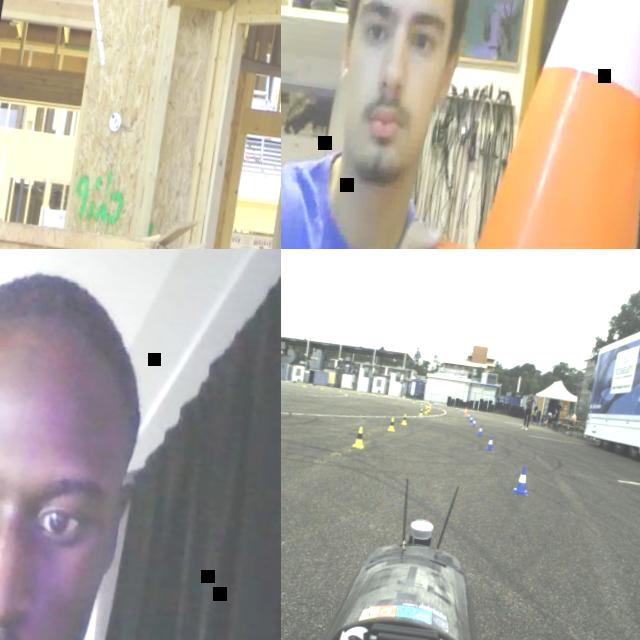NO-Hardhat: (0, 259, 161, 425), (530, 390, 534, 394), (573, 410, 576, 413), (559, 401, 561, 404), (550, 410, 552, 413), (546, 413, 548, 416)
NO-Mask: (339, 93, 434, 185)
NO-Safety Vest: (281, 160, 450, 249), (526, 396, 533, 408), (557, 405, 561, 414), (555, 413, 560, 420), (573, 416, 578, 422)
Person: (0, 249, 281, 640), (281, 0, 640, 249), (522, 389, 536, 432), (546, 408, 560, 429), (566, 410, 578, 434), (556, 401, 563, 414), (543, 412, 550, 424), (532, 409, 536, 424), (548, 410, 553, 418)
Safety Cone: (420, 0, 640, 249), (513, 465, 533, 496), (352, 426, 368, 448), (486, 435, 497, 451), (388, 417, 397, 432), (401, 413, 409, 426), (478, 425, 485, 436), (464, 407, 469, 416), (473, 418, 478, 426), (419, 408, 424, 416), (470, 415, 474, 423), (430, 402, 433, 412), (467, 412, 471, 419), (425, 407, 429, 414), (428, 406, 431, 412), (304, 382, 307, 388), (413, 399, 416, 404), (399, 396, 402, 401), (377, 393, 380, 398), (359, 390, 362, 395), (310, 383, 313, 388), (464, 409, 466, 415), (461, 408, 464, 412), (455, 407, 458, 411), (446, 404, 449, 408), (421, 401, 424, 405), (340, 388, 343, 392), (321, 386, 324, 390), (533, 410, 536, 414), (532, 406, 534, 412), (436, 402, 438, 407), (428, 403, 430, 408), (426, 402, 428, 407), (287, 380, 289, 384)
vehicle: (281, 442, 640, 640)
